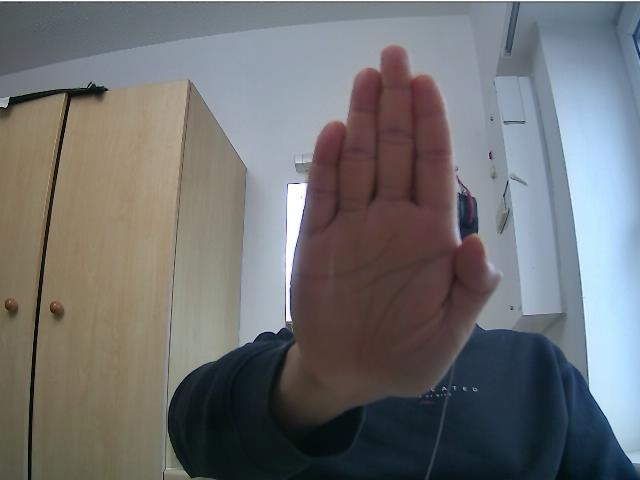up: (288, 43, 503, 397)
